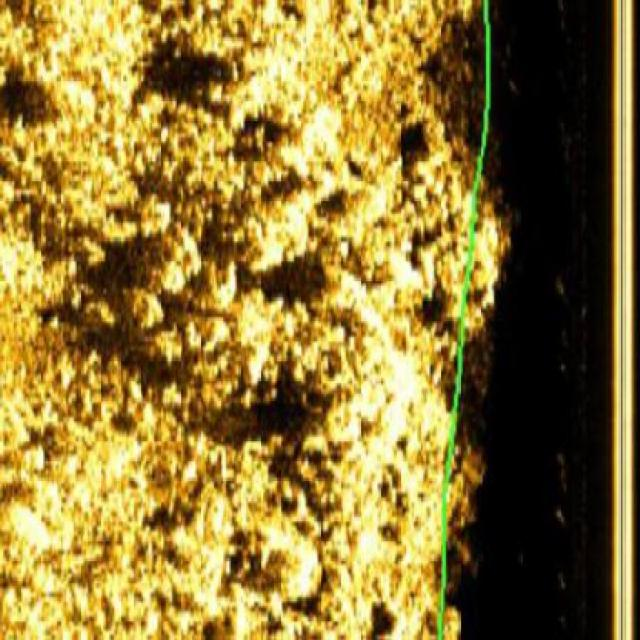bedrock group: (0, 0, 509, 638)
